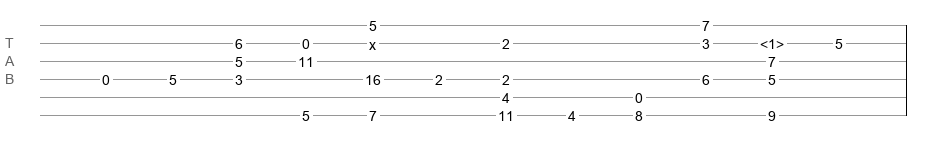0: (102, 72, 110, 82), (302, 36, 310, 46), (635, 90, 643, 100)
11: (298, 54, 314, 64), (498, 108, 514, 118)
16: (365, 72, 381, 82)
2: (435, 72, 443, 82), (502, 36, 510, 46), (502, 72, 510, 82)
3: (235, 72, 243, 82), (702, 36, 710, 46)
4: (502, 90, 510, 100), (568, 108, 576, 118)
5: (169, 72, 177, 82), (235, 54, 243, 64), (302, 108, 310, 118), (369, 18, 377, 28), (768, 72, 776, 82), (835, 36, 843, 46)
6: (235, 36, 243, 46), (702, 72, 710, 82)
7: (369, 108, 377, 118), (702, 18, 710, 28), (768, 54, 776, 64)
8: (635, 108, 643, 118)
9: (768, 108, 776, 118)
harmonic: (760, 36, 784, 46)
x: (369, 37, 376, 45)
